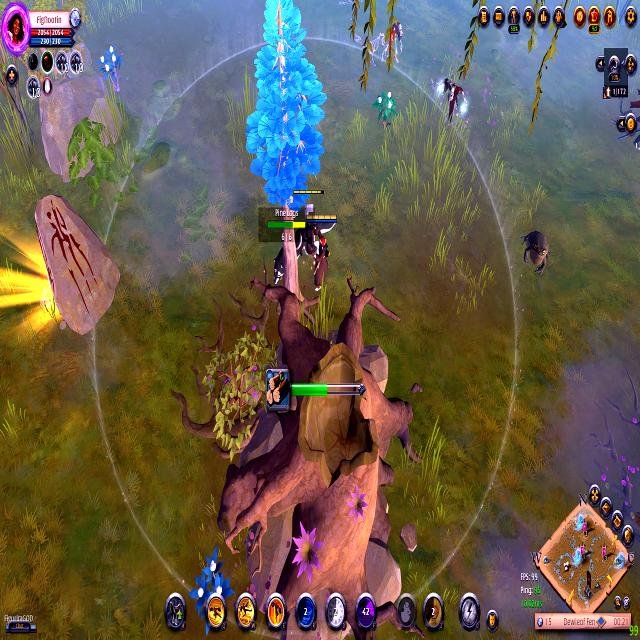hide: (189, 545, 236, 638), (97, 34, 126, 105), (372, 88, 399, 135)
ore: (436, 72, 470, 131), (517, 220, 551, 278), (382, 14, 406, 80), (619, 83, 640, 157)
red: (300, 206, 342, 298), (0, 602, 41, 640)
wisp caged: (245, 0, 328, 320)
